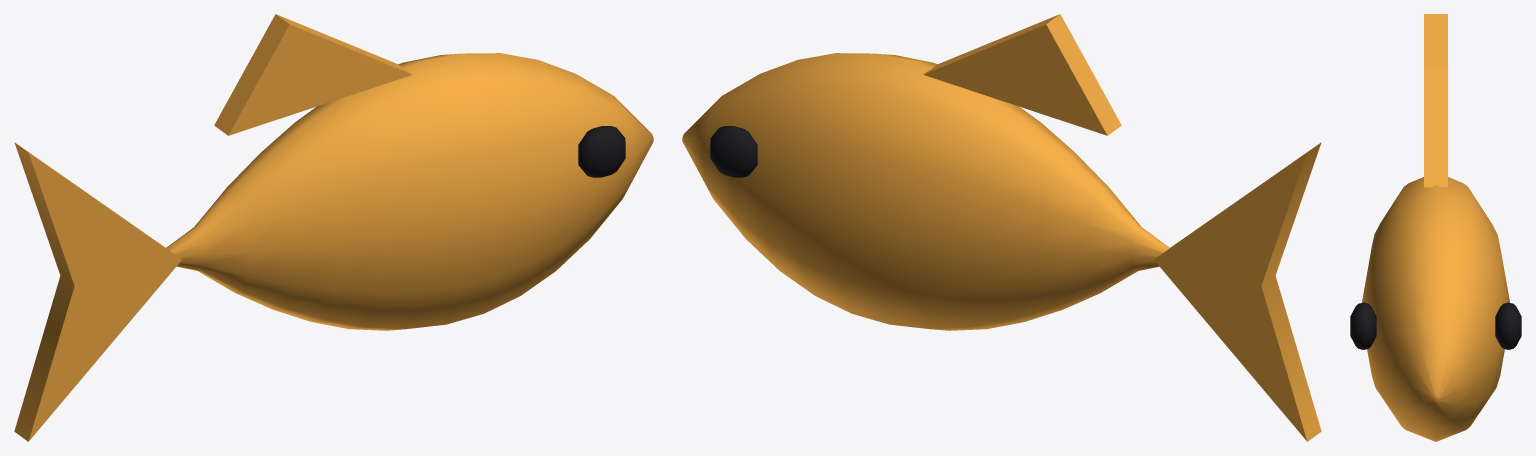
File: SM_Fish_Collectible.fbx
The picture shows the model from 3 angles, left to right: view 1: azimuth 30°, elevation 25°; view 2: azimuth 150°, elevation 25°; view 3: azimuth 270°, elevation 25°; orthographic projection. The views are drawn at different scales.
Parts seen in each view (by area): view 1: SM_Fish_Collectible; view 2: SM_Fish_Collectible; view 3: SM_Fish_Collectible.
Part boxes in pixels (x1,y1,x2,y2): SM_Fish_Collectible: (14, 14, 653, 441); SM_Fish_Collectible: (682, 14, 1321, 441); SM_Fish_Collectible: (1350, 14, 1521, 441).
Size of what is drawn, in the model's own units: 11.34 by 41 by 22.
